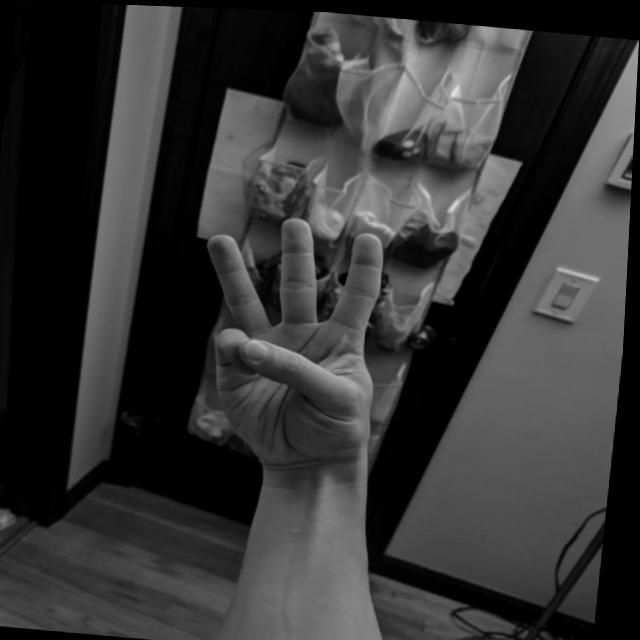W: (184, 203, 405, 475)
